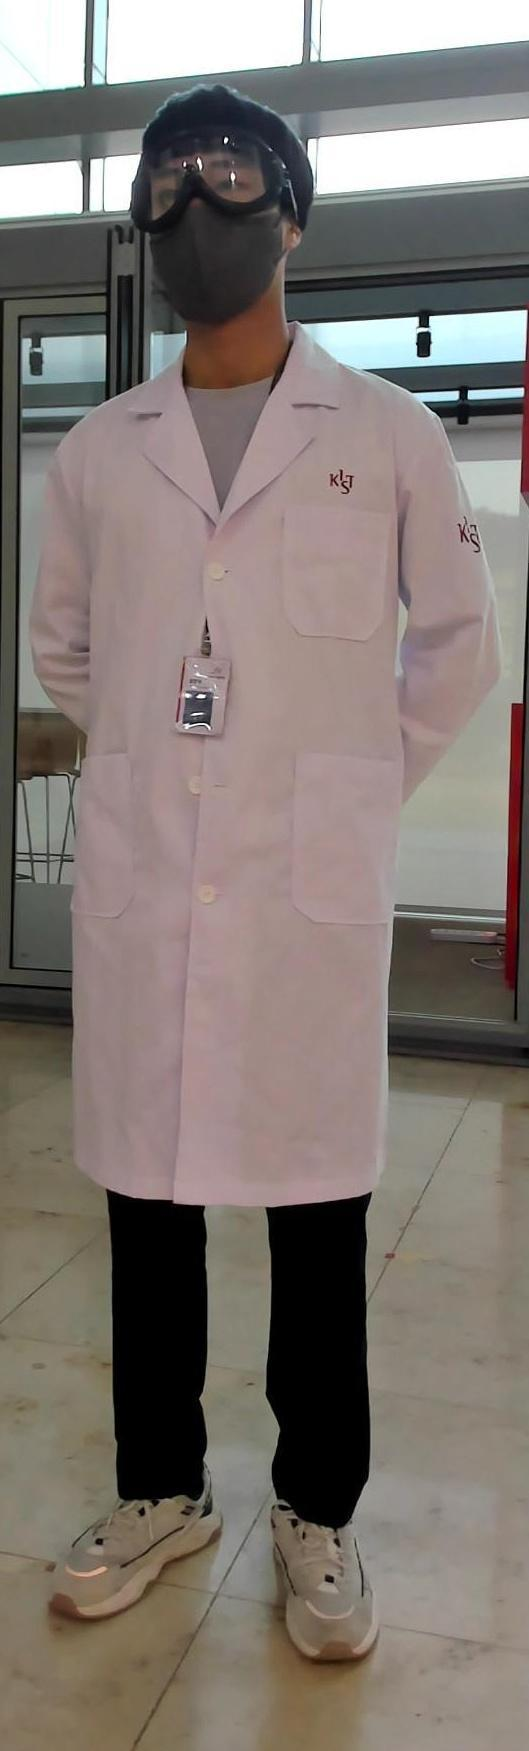lab_coat: (1, 417, 506, 1198)
